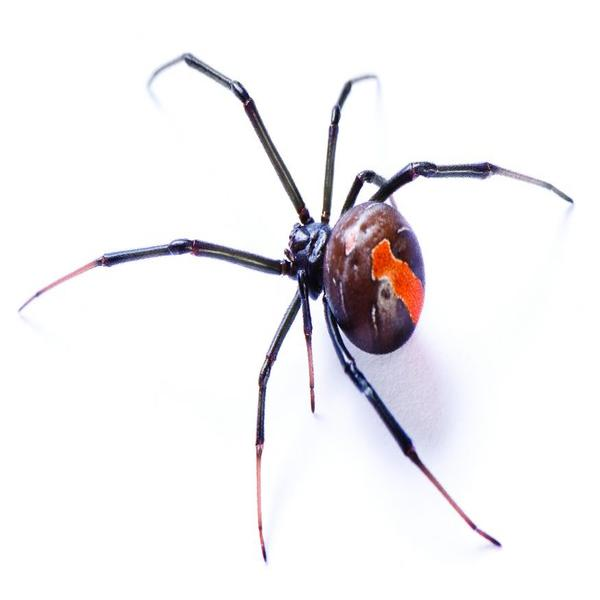Redback Spider: (21, 53, 572, 549)
